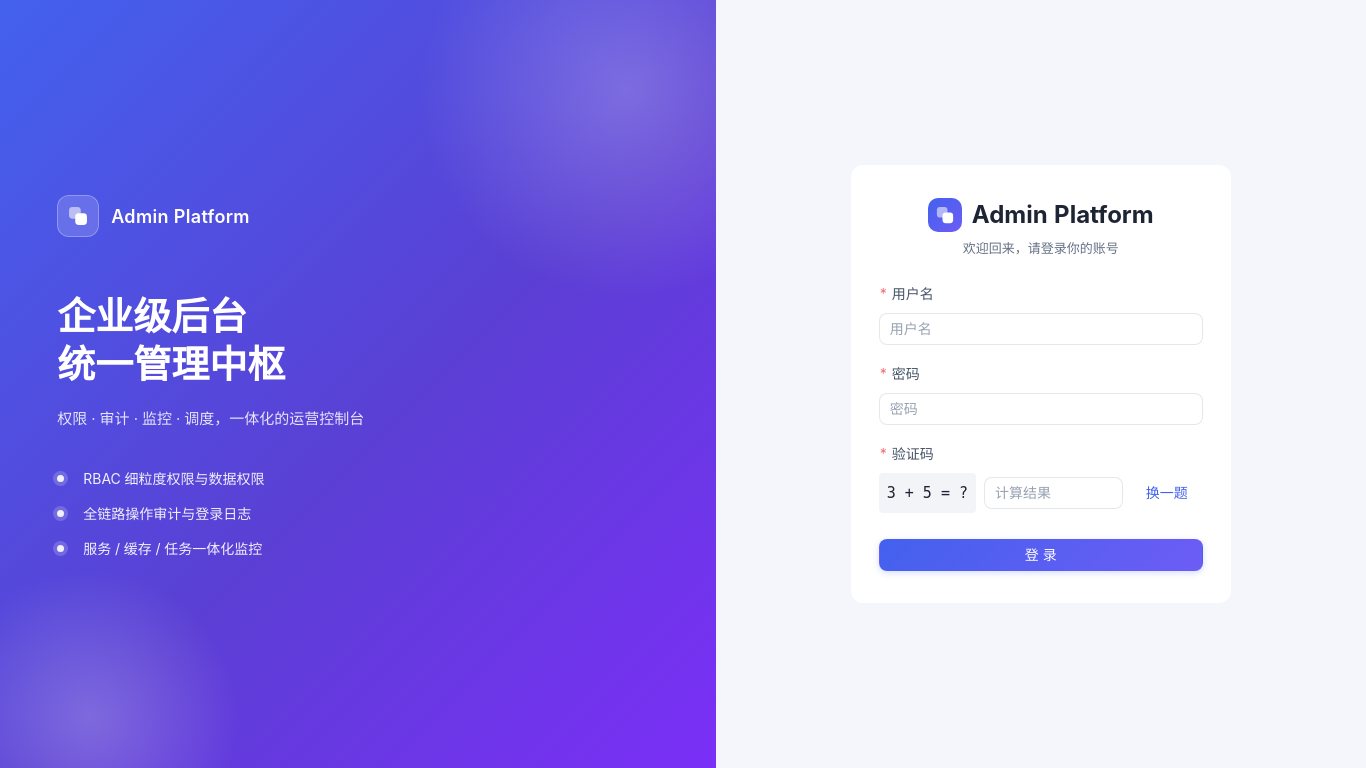
Test case: 登录页 › MissingRefreshTokenError → 显示环境配置错误 alert（fail fast）
Type "admin" into the field with placeholder "用户名" at (1041, 329), box left=890, top=314, right=1192, bottom=344
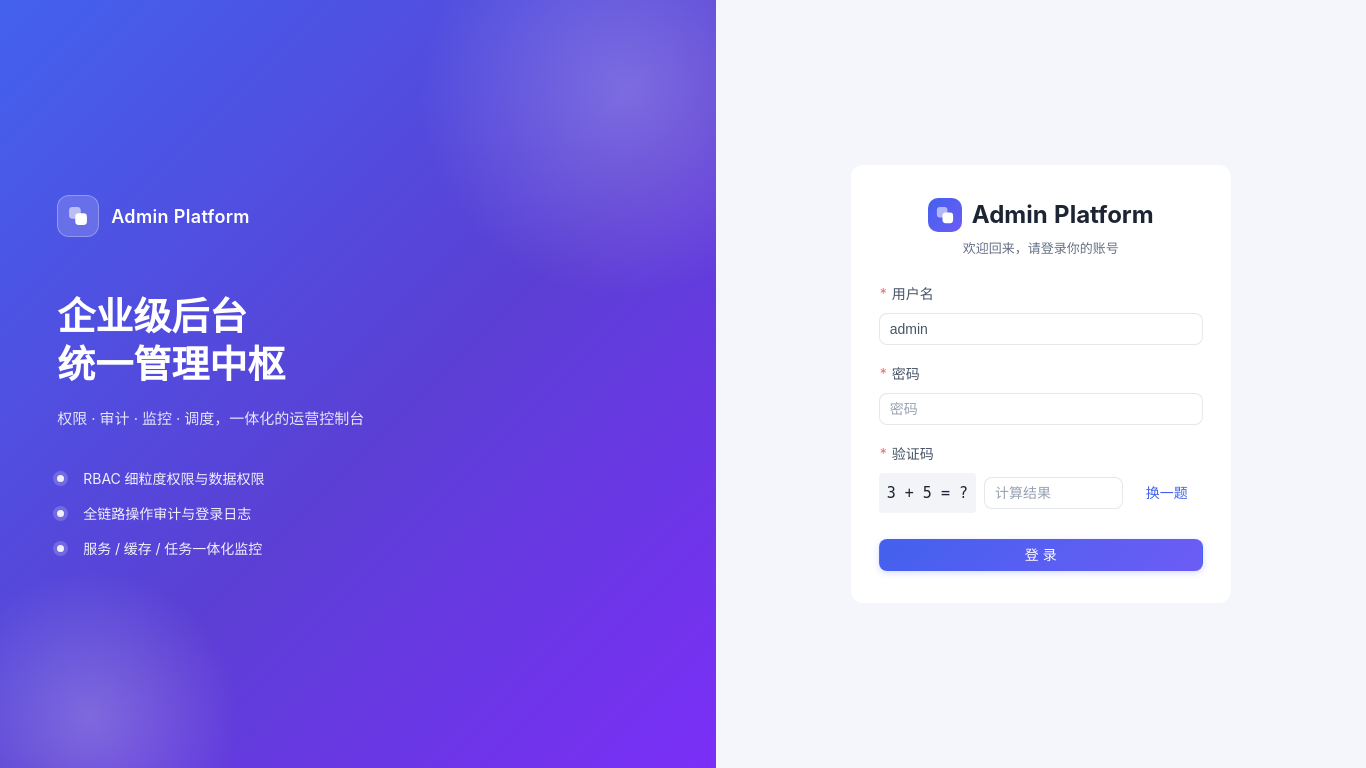
Type "secret-pass" into the password field with placeholder "密码" at (1041, 409), box left=890, top=394, right=1192, bottom=424
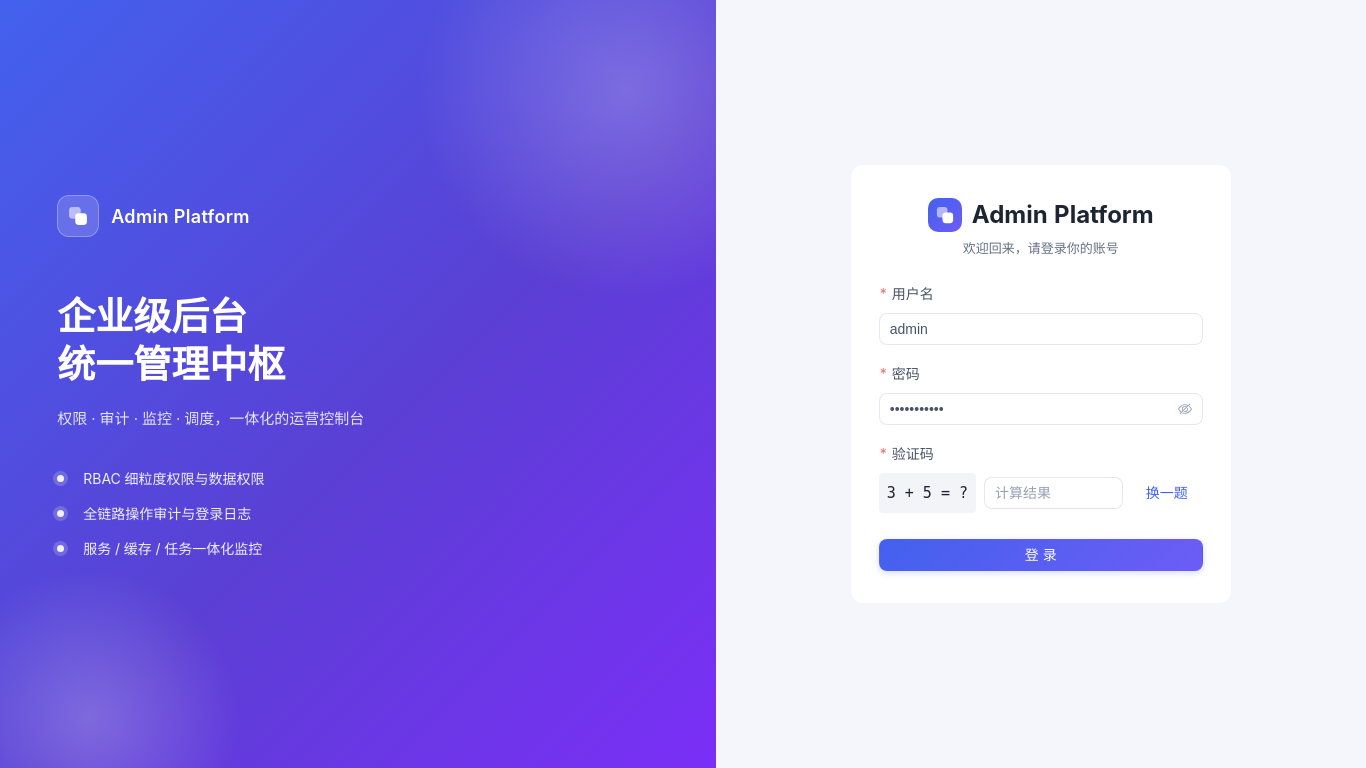
Type "8" into the field with placeholder "计算结果" at (1053, 493), box left=995, top=478, right=1112, bottom=508
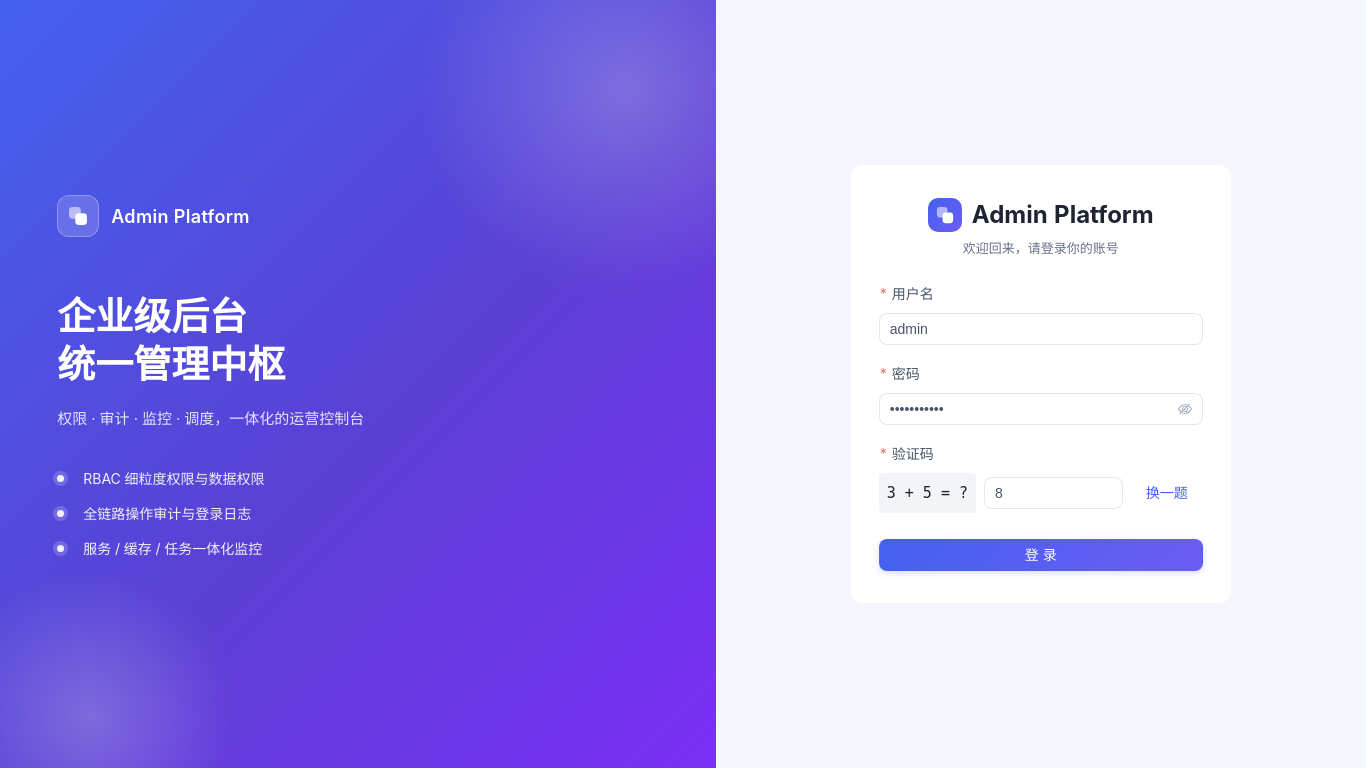
Submit the form, box left=879, top=283, right=1203, bottom=571
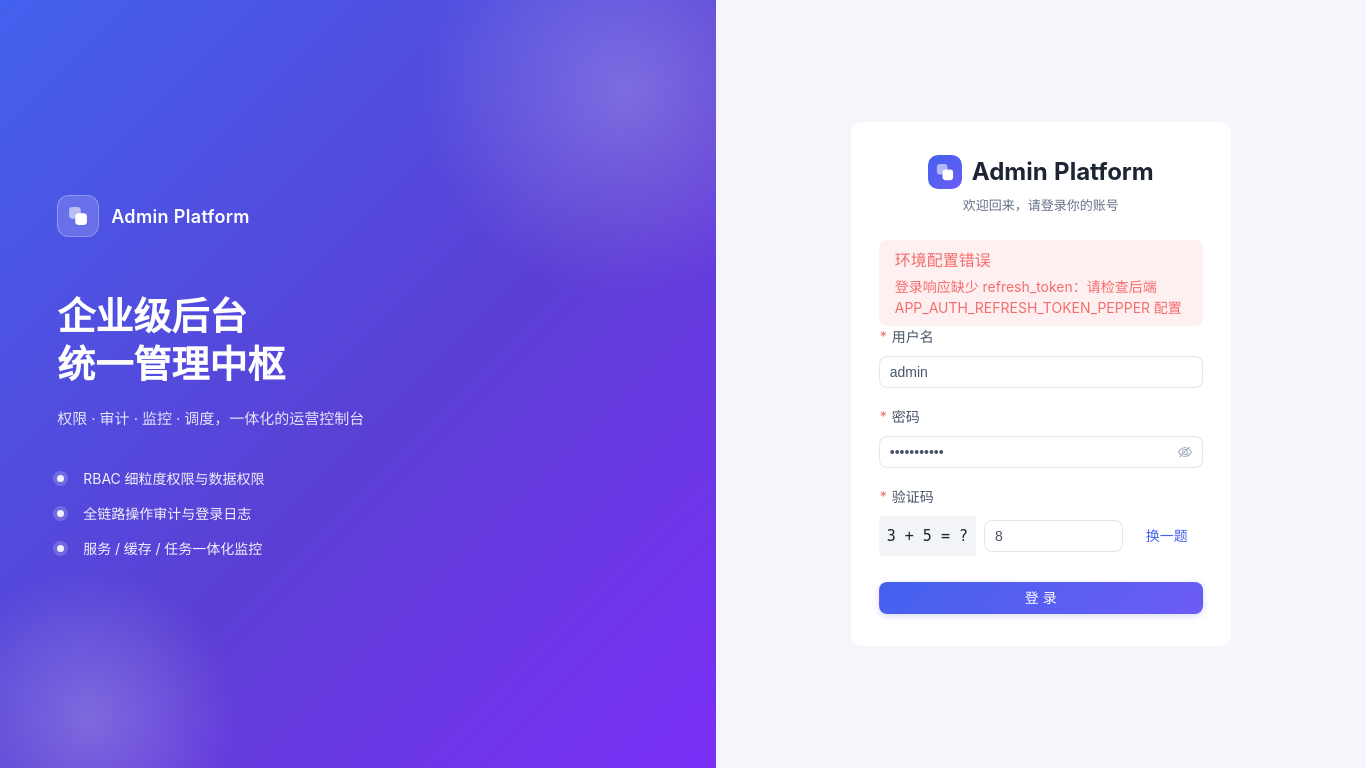
Check: the message "环境配置错误 登录响应缺少 refresh_token：请检查后端 APP_AUTH_REFRESH_TOKEN_PEPPER 配置" is shown, box left=879, top=240, right=1203, bottom=326
